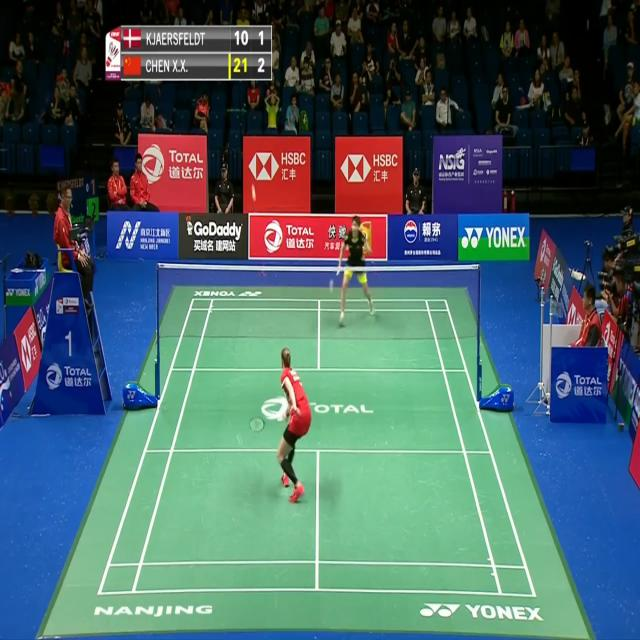Player1: (247, 340, 317, 505)
Player2: (336, 210, 379, 330)
